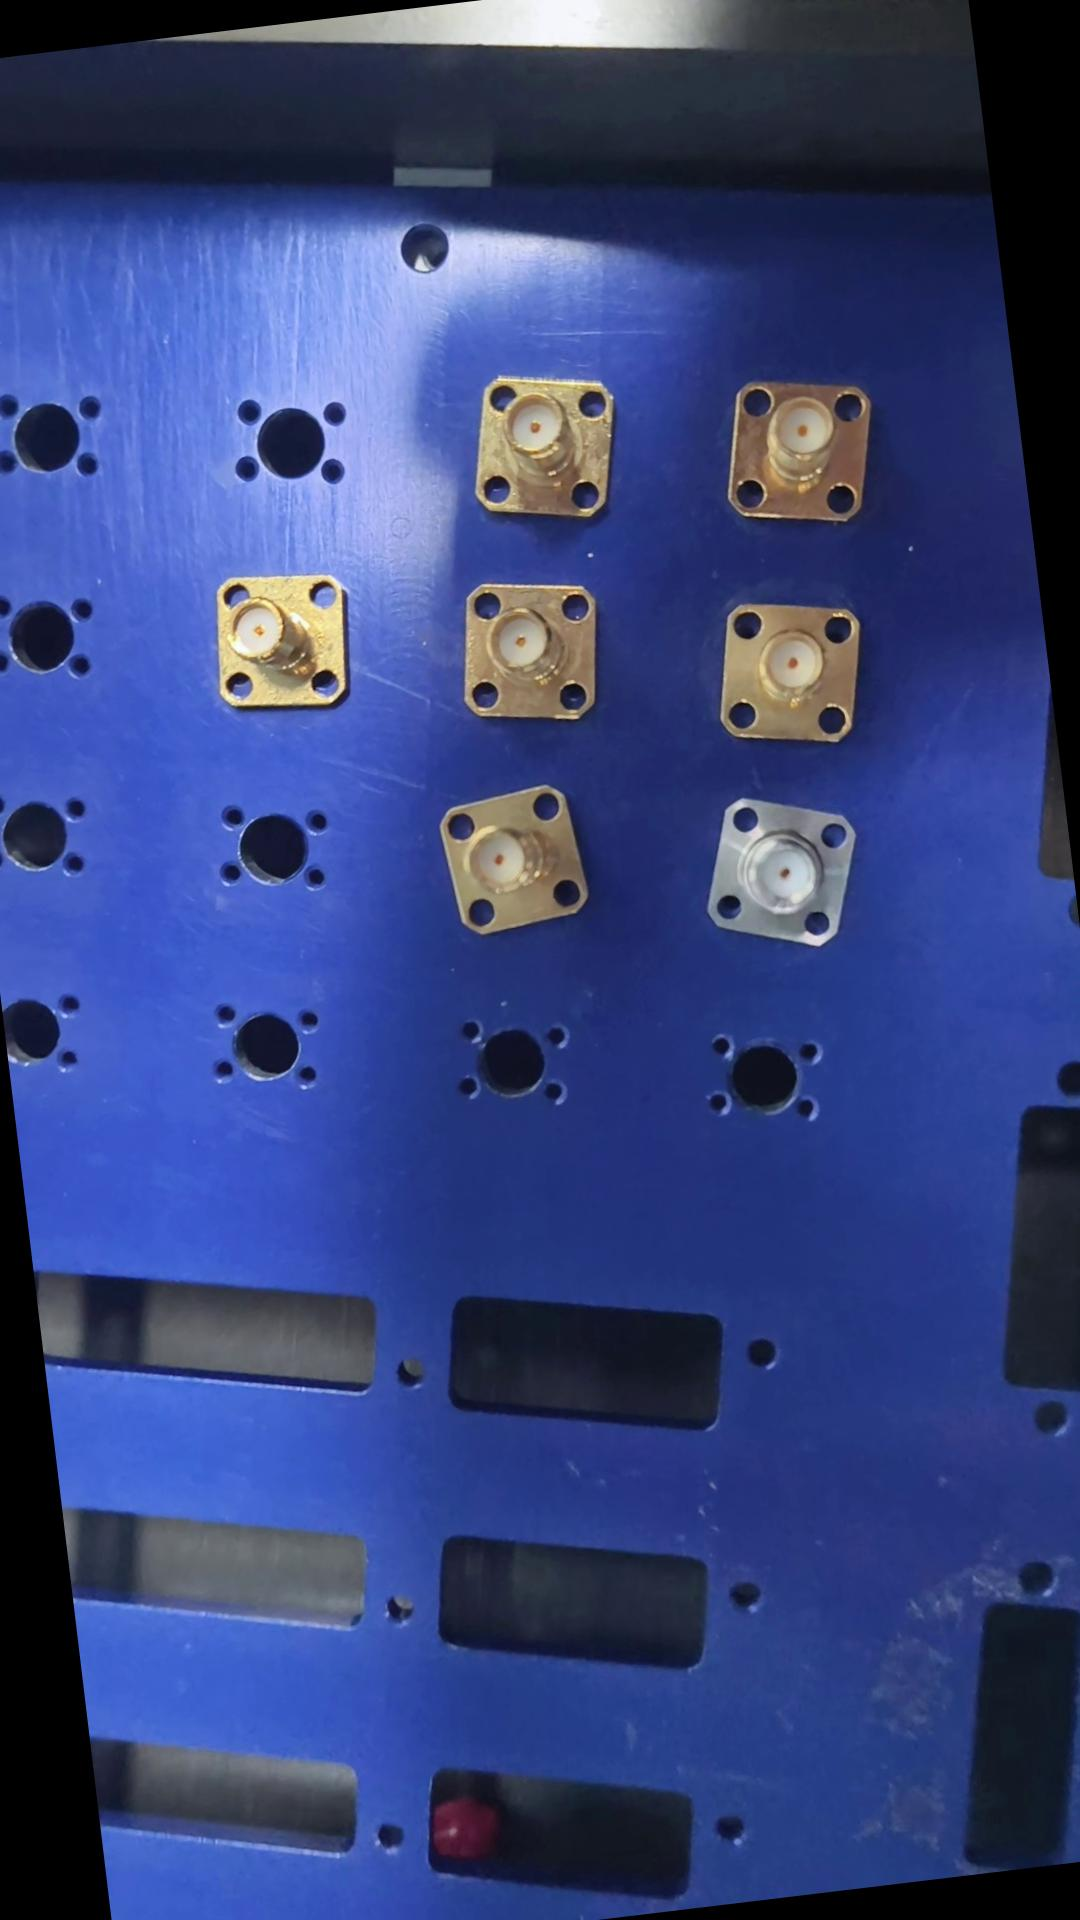SMA: (694, 585, 886, 758), (682, 779, 866, 957), (418, 778, 593, 949), (704, 376, 884, 535), (443, 566, 611, 735), (451, 368, 620, 533), (200, 556, 357, 731)
